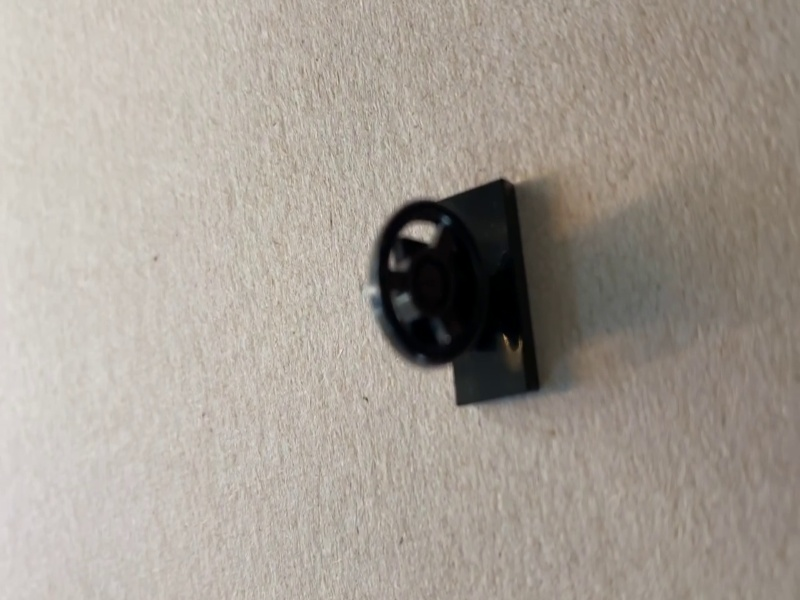steering wheel: (368, 177, 545, 410)
